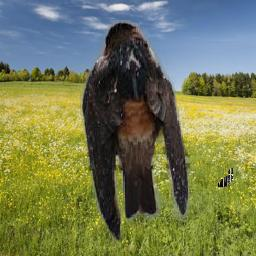Crow: (218, 167, 234, 187)
Swallow: (80, 21, 190, 242)
